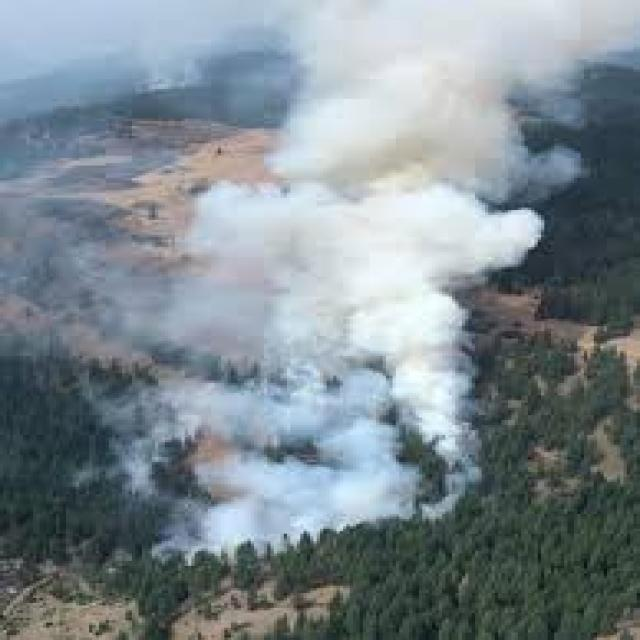Smoke: (185, 0, 579, 359), (92, 360, 530, 556), (263, 0, 630, 192), (100, 357, 393, 572), (374, 203, 488, 519)
